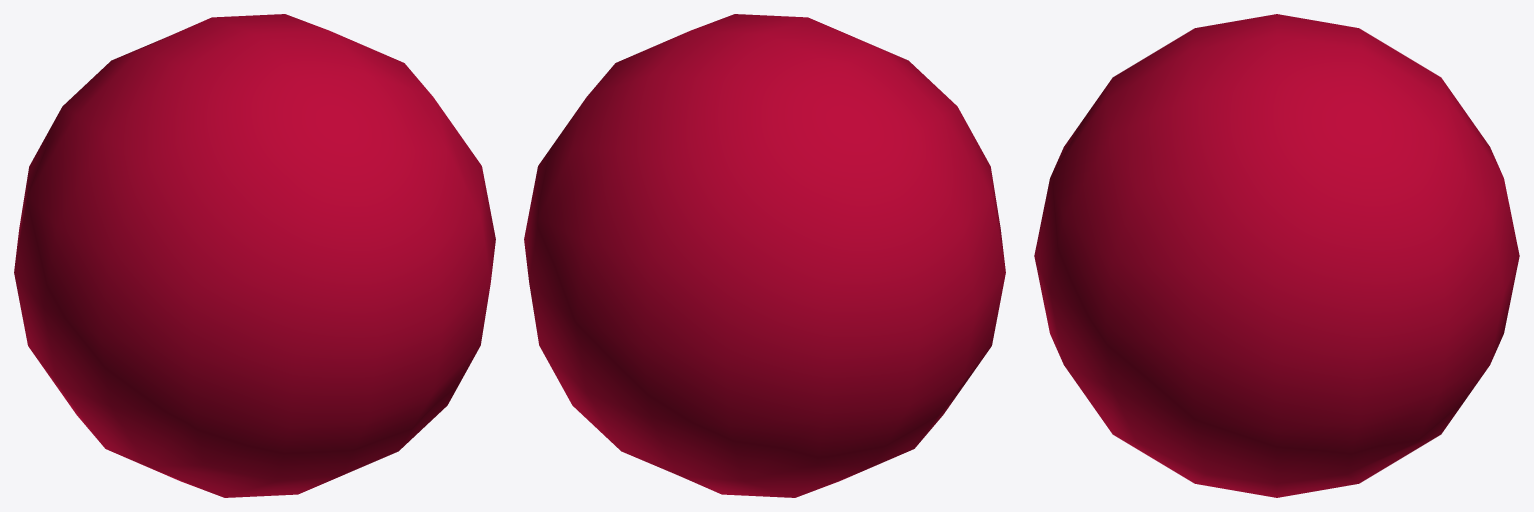
The model's file is 01cherry.glb.
The picture shows the model from 3 angles, left to right: view 1: azimuth 30°, elevation 25°; view 2: azimuth 150°, elevation 25°; view 3: azimuth 270°, elevation 25°; orthographic projection.
Visible parts, largest first — view 1: 01-cherry; view 2: 01-cherry; view 3: 01-cherry.
Part boxes in pixels (left/top/right/bottom): 01-cherry: left=14, top=14, right=495, bottom=497; 01-cherry: left=524, top=14, right=1005, bottom=497; 01-cherry: left=1034, top=14, right=1519, bottom=497.
Size of the model in its own units: 1.87 by 1.87 by 1.87.
